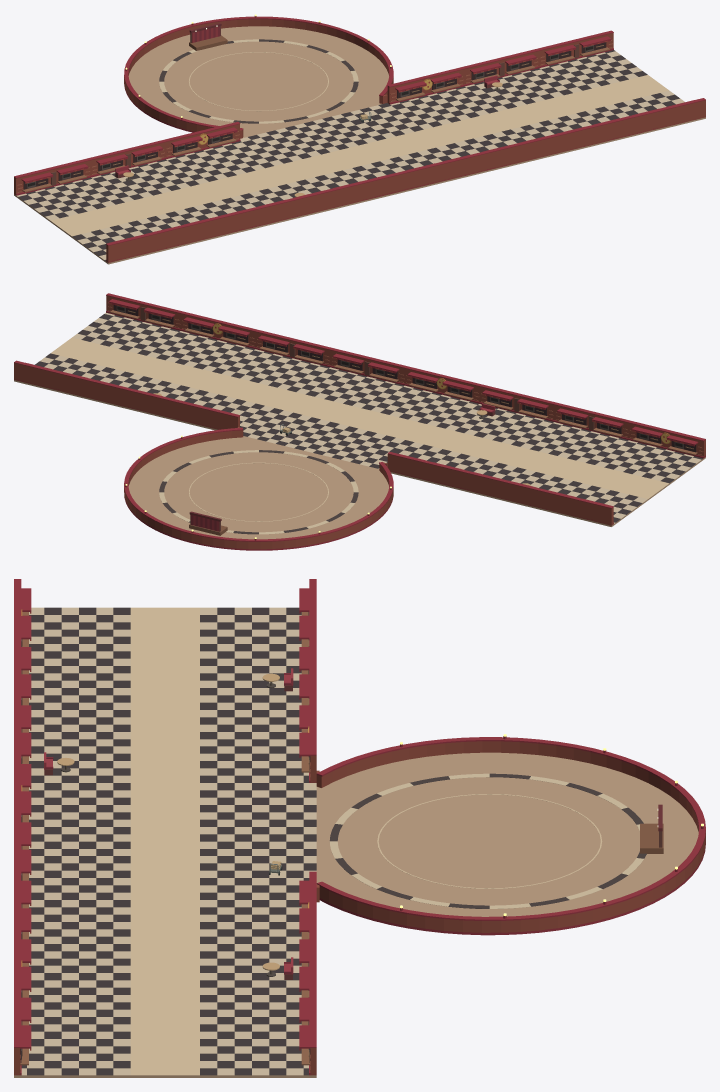
File: pizza.glb
3 views of the same model, one above another, from view 1: azimuth 30°, elevation 25°; view 2: azimuth 150°, elevation 25°; view 3: azimuth 270°, elevation 25° (orthographic). The views are drawn at different scales.
Parts seen in each view (by area): view 1: PZ_Floor64 (×8), PZ_Arena, PZ_WallA (×9), PZ_WallB (×5), PZ_Stage; view 2: PZ_Floor64 (×8), PZ_Arena, PZ_WallA (×9), PZ_WallB (×5), PZ_Stage; view 3: PZ_Floor64 (×8), PZ_Arena, PZ_WallA (×9), PZ_WallB (×5), PZ_Stage.
Boxes of the visible parts, <box> form: PZ_Floor64 (×8): <box>14,50,705,264</box>; PZ_Arena: <box>124,14,393,138</box>; PZ_WallA (×9): <box>14,30,705,244</box>; PZ_WallB (×5): <box>106,67,631,262</box>; PZ_Stage: <box>189,23,227,50</box>; PZ_Floor64 (×8): <box>14,313,705,526</box>; PZ_Arena: <box>124,427,393,550</box>; PZ_WallA (×9): <box>14,293,630,525</box>; PZ_WallB (×5): <box>163,311,705,489</box>; PZ_Stage: <box>189,511,227,535</box>; PZ_Floor64 (×8): <box>14,607,316,1077</box>; PZ_Arena: <box>316,734,705,935</box>; PZ_WallA (×9): <box>14,579,316,1075</box>; PZ_WallB (×5): <box>14,579,316,997</box>; PZ_Stage: <box>640,804,663,853</box>.
Bounding box in the file's own units: 512 × 15.7 × 320.
Materials: 3 (3 with a texture image).
